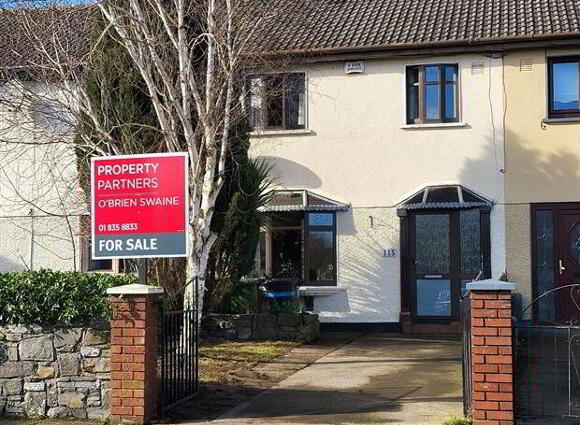property sign: (72, 148, 213, 262)
